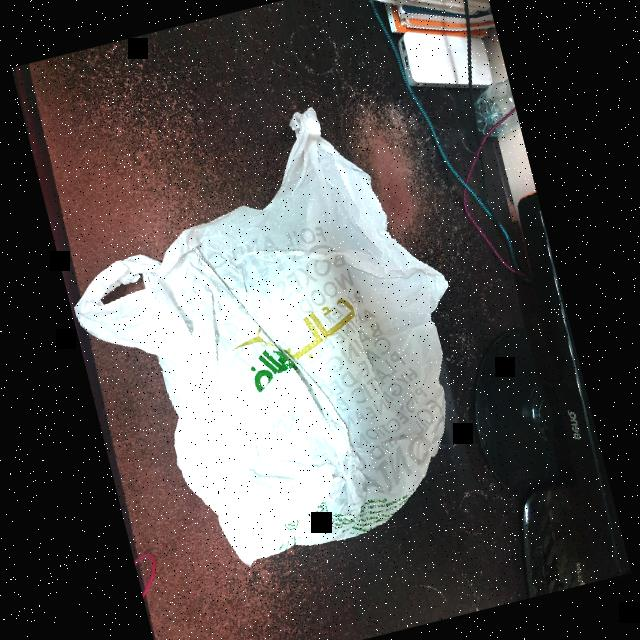plastic_bag: (34, 75, 512, 602)
